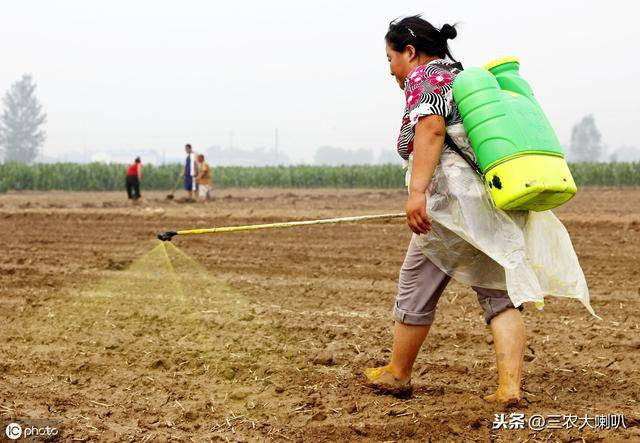berrl: (453, 55, 578, 211)
